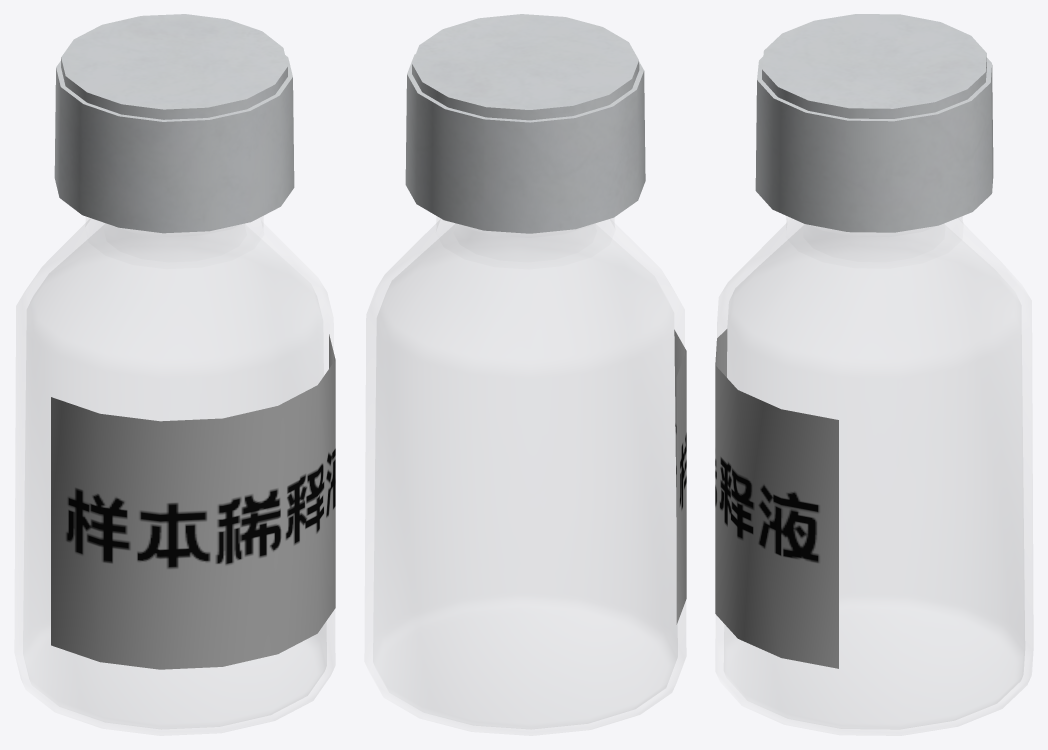
File: 样本稀释液.glb
The picture shows the model from 3 angles, left to right: view 1: azimuth 30°, elevation 25°; view 2: azimuth 150°, elevation 25°; view 3: azimuth 270°, elevation 25°; orthographic projection.
Parts seen in each view (by area): view 1: 1XPBS缓冲液.002, 1XPBS缓冲液, 1XPBS缓冲液.003, 样本稀释液; view 2: 1XPBS缓冲液.002, 1XPBS缓冲液.003, 样本稀释液, 1XPBS缓冲液; view 3: 1XPBS缓冲液.002, 1XPBS缓冲液.003, 1XPBS缓冲液, 样本稀释液.
Boxes of the visible parts, <box> form: 1XPBS缓冲液.002: <box>23,224,326,728</box>; 1XPBS缓冲液: <box>51,334,335,669</box>; 1XPBS缓冲液.003: <box>54,14,294,233</box>; 样本稀释液: <box>15,216,334,735</box>; 1XPBS缓冲液.002: <box>373,224,677,728</box>; 1XPBS缓冲液.003: <box>405,14,645,233</box>; 样本稀释液: <box>365,217,685,735</box>; 1XPBS缓冲液: <box>674,329,686,624</box>; 1XPBS缓冲液.002: <box>724,224,1024,728</box>; 1XPBS缓冲液.003: <box>755,14,993,232</box>; 1XPBS缓冲液: <box>715,329,838,668</box>; 样本稀释液: <box>716,216,1032,735</box>.
Bounding box in the file's own units: 0.0986 × 0.2098 × 0.0986.
1 material, 1 textured.
